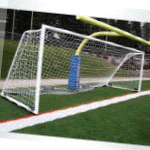goals: (1, 23, 146, 113)
